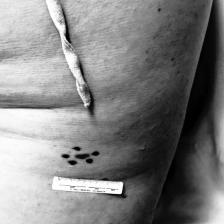Benign Marking or Mole: (76, 152, 90, 162)
